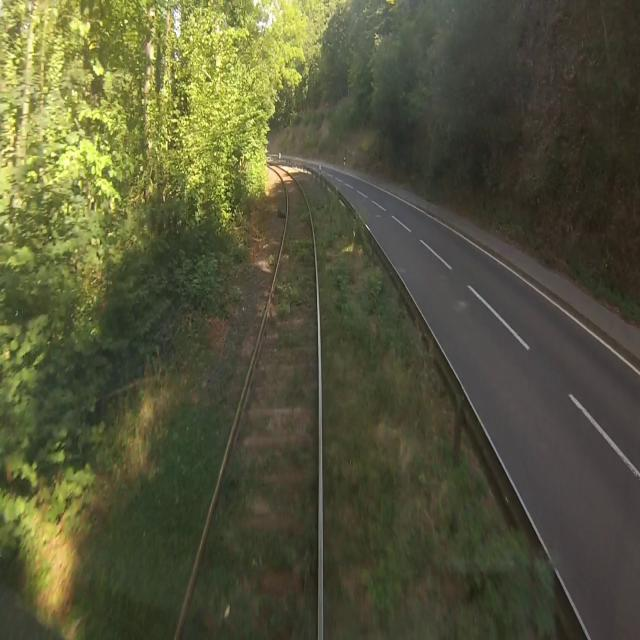Plant: (175, 161, 323, 639), (140, 172, 285, 636), (280, 162, 362, 639)
